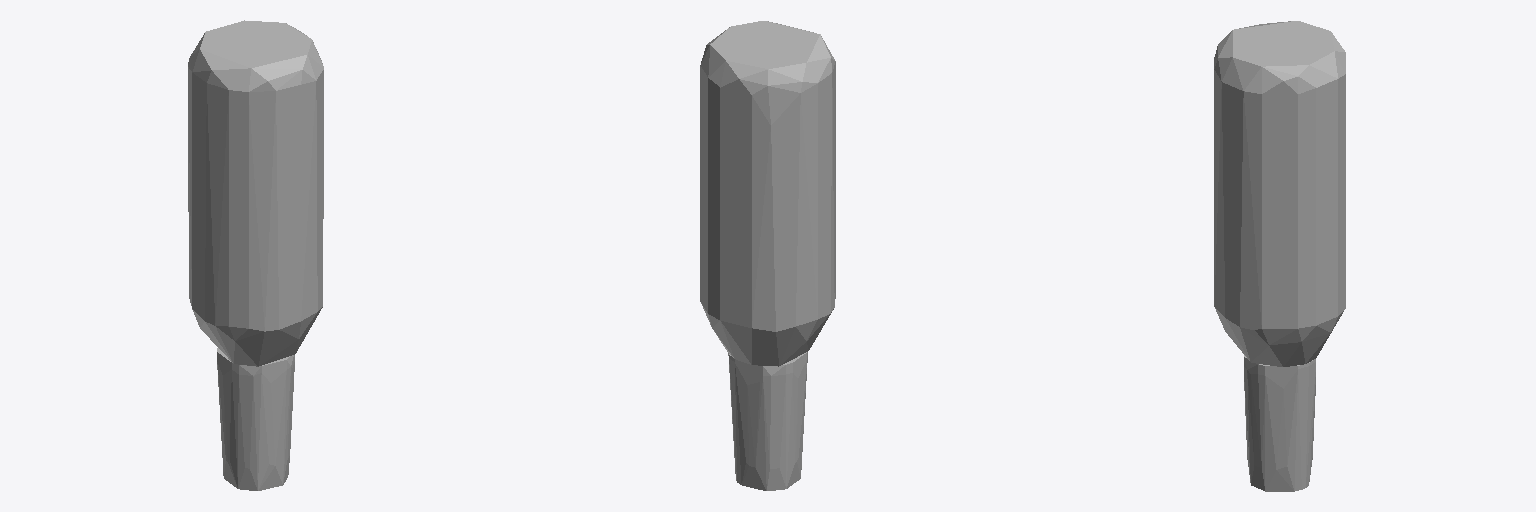
URDF robot description (root):
<robot name="root">
  <link name="link_e8b48d395d3d8744e53e6e0633163da8_convex_piece_0">
    <inertial>
      <origin rpy="0 0 0" xyz="0 0 0"/>
      <mass value="1.94E-05"/>
      <inertia ixx="6.33E-08" ixy="1.01E-11" ixz="-7.67E-12" iyy="6.33E-08" iyz="-7.60E-12" izz="1.55E-09"/>
    </inertial>
    <visual>
      <origin rpy="0 0 0" xyz="0 0 0"/>
      <geometry>
        <mesh filename="e8b48d395d3d8744e53e6e0633163da8_convex_piece_0.obj" scale="1.0000E+00"/>
      </geometry>
      <material name="">
        <color rgba="7.50E-01 7.50E-01 7.50E-01 1"/>
      </material>
    </visual>
    <collision>
      <origin rpy="0 0 0" xyz="0 0 0"/>
      <geometry>
        <mesh filename="e8b48d395d3d8744e53e6e0633163da8_convex_piece_0.obj" scale="1.0000E+00"/>
      </geometry>
    </collision>
  </link>
  <link name="link_e8b48d395d3d8744e53e6e0633163da8_convex_piece_1">
    <inertial>
      <origin rpy="0 0 0" xyz="0 0 0"/>
      <mass value="1.54E-04"/>
      <inertia ixx="2.48E-07" ixy="1.87E-11" ixz="2.70E-11" iyy="2.48E-07" iyz="1.20E-10" izz="4.10E-08"/>
    </inertial>
    <visual>
      <origin rpy="0 0 0" xyz="0 0 0"/>
      <geometry>
        <mesh filename="e8b48d395d3d8744e53e6e0633163da8_convex_piece_1.obj" scale="1.0000E+00"/>
      </geometry>
      <material name="">
        <color rgba="7.50E-01 7.50E-01 7.50E-01 1"/>
      </material>
    </visual>
    <collision>
      <origin rpy="0 0 0" xyz="0 0 0"/>
      <geometry>
        <mesh filename="e8b48d395d3d8744e53e6e0633163da8_convex_piece_1.obj" scale="1.0000E+00"/>
      </geometry>
    </collision>
  </link>
  <joint name="link_e8b48d395d3d8744e53e6e0633163da8_convex_piece_1_joint" type="fixed">
    <origin rpy="0 0 0" xyz="0 0 0"/>
    <parent link="link_e8b48d395d3d8744e53e6e0633163da8_convex_piece_0"/>
    <child link="link_e8b48d395d3d8744e53e6e0633163da8_convex_piece_1"/>
  </joint>
</robot>

--- Render facts (derived) ---
Views: 3 orthographic renders of the robot side by side, from view 1: azimuth 30°, elevation 25°; view 2: azimuth 150°, elevation 25°; view 3: azimuth 270°, elevation 25°.
Model root with 2 links and 1 joints (1 fixed), rooted at link_e8b48d395d3d8744e53e6e0633163da8_convex_piece_0, posed all joints at 0.
Visible links, largest first — view 1: link_e8b48d395d3d8744e53e6e0633163da8_convex_piece_1, link_e8b48d395d3d8744e53e6e0633163da8_convex_piece_0; view 2: link_e8b48d395d3d8744e53e6e0633163da8_convex_piece_1, link_e8b48d395d3d8744e53e6e0633163da8_convex_piece_0; view 3: link_e8b48d395d3d8744e53e6e0633163da8_convex_piece_1, link_e8b48d395d3d8744e53e6e0633163da8_convex_piece_0.
Boxes of the visible links, x1=… form: link_e8b48d395d3d8744e53e6e0633163da8_convex_piece_1: x1=188, y1=20, x2=323, y2=366; link_e8b48d395d3d8744e53e6e0633163da8_convex_piece_0: x1=217, y1=348, x2=294, y2=490; link_e8b48d395d3d8744e53e6e0633163da8_convex_piece_1: x1=700, y1=21, x2=835, y2=366; link_e8b48d395d3d8744e53e6e0633163da8_convex_piece_0: x1=728, y1=352, x2=807, y2=490; link_e8b48d395d3d8744e53e6e0633163da8_convex_piece_1: x1=1214, y1=21, x2=1345, y2=366; link_e8b48d395d3d8744e53e6e0633163da8_convex_piece_0: x1=1244, y1=355, x2=1315, y2=491.
Bounding box of the posed robot: 0.0461 × 0.0461 × 0.1692 m (x, y, z).
Meshes: 2 distinct files referenced, 2 mesh visuals loaded (2 OBJ).